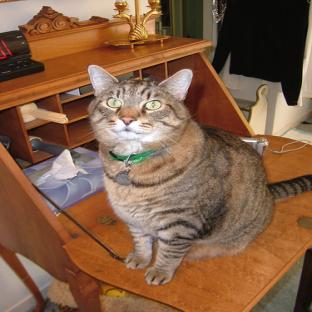Animal: (89, 65, 312, 285)
